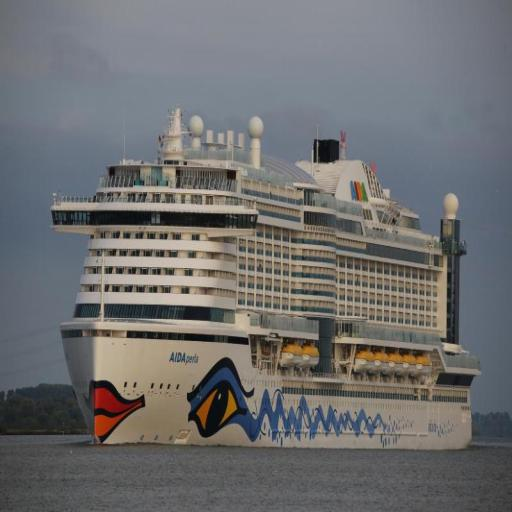cruises: (48, 105, 485, 455)
